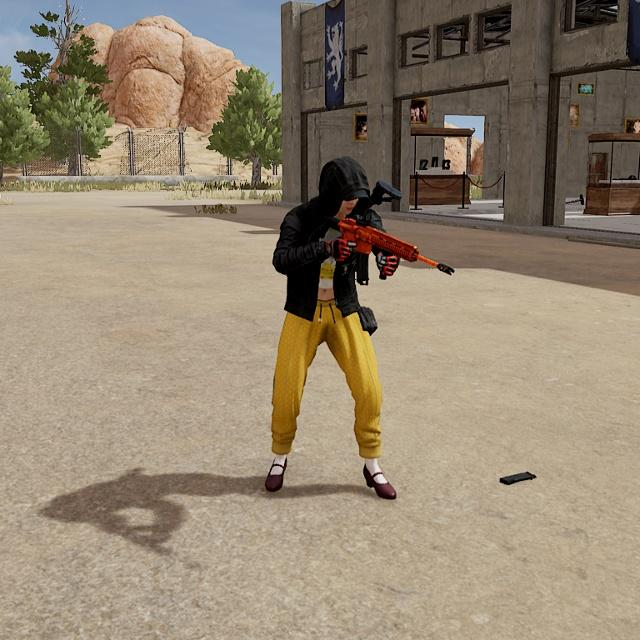head: (318, 159, 366, 218)
people: (266, 159, 399, 501)
